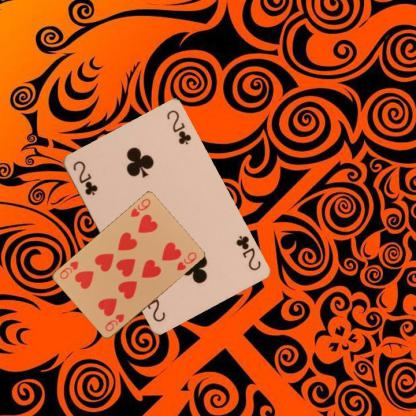2c: (233, 233, 262, 272), (70, 158, 99, 196)
9h: (127, 196, 152, 219), (102, 311, 126, 333)
